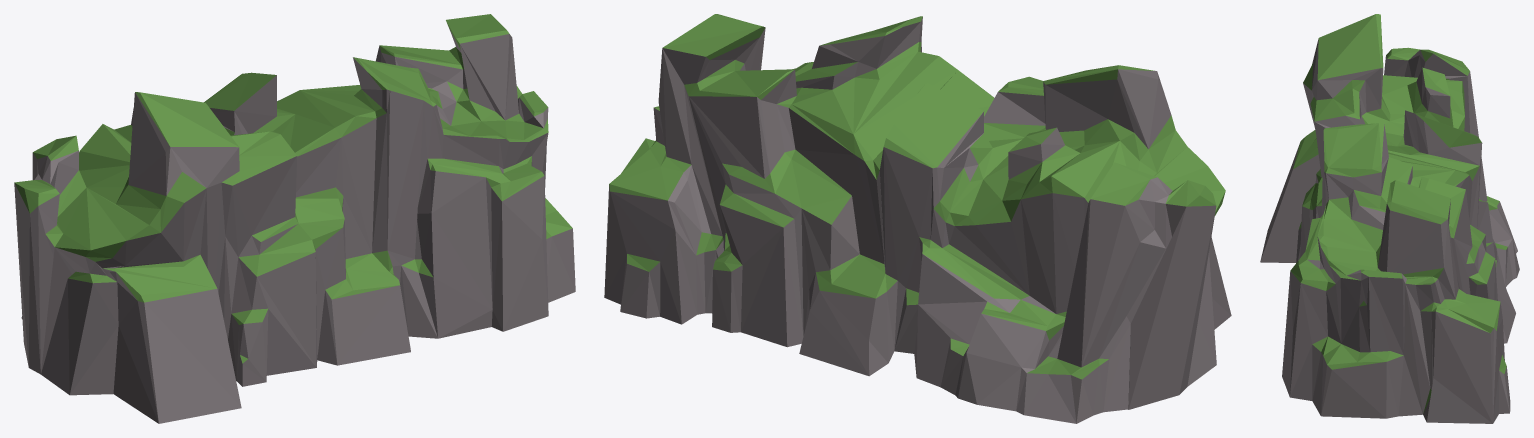
The model's file is Rock_Formation_1.fbx.
3 views of the same model, side by side, from view 1: azimuth 30°, elevation 25°; view 2: azimuth 150°, elevation 25°; view 3: azimuth 270°, elevation 25° (orthographic). The views are drawn at different scales.
Visible parts, largest first — view 1: Rock_Formation_1; view 2: Rock_Formation_1; view 3: Rock_Formation_1.
Part boxes in pixels (<box>): Rock_Formation_1: <box>14,14,575,423</box>; Rock_Formation_1: <box>604,14,1231,423</box>; Rock_Formation_1: <box>1260,14,1519,423</box>.
Size of the model in its own units: 15.59 by 7.83 by 7.85.
